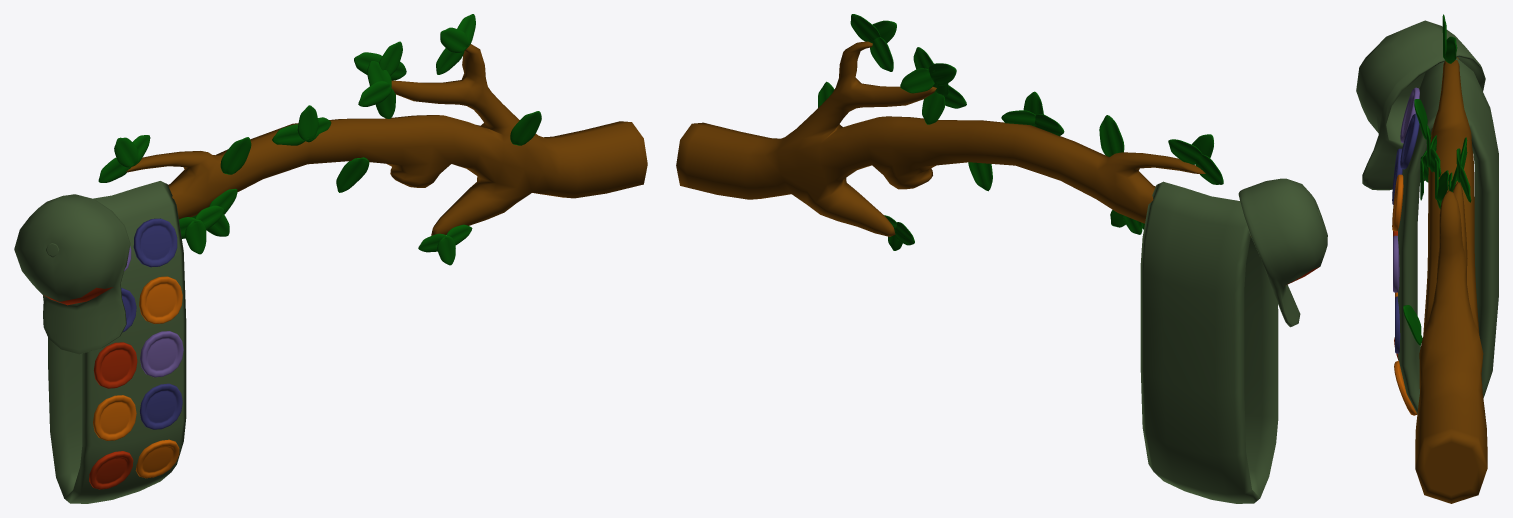
The model's file is sash_branch.fbx.
3 views of the same model, side by side, from view 1: azimuth 30°, elevation 25°; view 2: azimuth 150°, elevation 25°; view 3: azimuth 270°, elevation 25° (orthographic). The views are drawn at different scales.
Visible parts, largest first — view 1: branch, sash, hat, pCube17, pCube25, pCube19, pCube20, pCube22, pCube21, pCube7, pCube6, pCube9 (+10 smaller); view 2: sash, branch, hat, pCube8, pCube6, pCube9, pCube10, pCube7, pCube5; view 3: branch, sash, hat, pCube17, pCube8, pCube25, pCube6, pCube9, pCube18, pCube16, pCube10, pCube23 (+5 smaller).
Part boxes in pixels (x1,y1,x2,y2): branch: (126, 44, 647, 235); sash: (48, 181, 186, 503); hat: (14, 194, 130, 354); pCube17: (133, 218, 177, 267); pCube25: (139, 276, 182, 323); pCube19: (140, 331, 183, 377); pCube20: (93, 342, 137, 388); pCube22: (93, 395, 136, 440); pCube21: (140, 383, 182, 429); pCube7: (358, 61, 395, 118); pCube6: (436, 14, 475, 74); pCube9: (98, 135, 150, 182); sash: (1140, 181, 1278, 503); branch: (676, 41, 1250, 236); hat: (1238, 178, 1327, 327); pCube8: (900, 47, 956, 93); pCube6: (850, 14, 896, 71); pCube9: (1168, 134, 1223, 184); pCube10: (1001, 91, 1064, 136); pCube7: (922, 70, 966, 124); pCube5: (1099, 115, 1124, 156); branch: (1415, 57, 1487, 503); sash: (1398, 58, 1498, 413); hat: (1356, 20, 1485, 190); pCube17: (1400, 113, 1419, 169); pCube8: (1456, 137, 1471, 202); pCube25: (1392, 174, 1403, 231); pCube6: (1434, 158, 1449, 209); pCube9: (1442, 14, 1457, 63); pCube18: (1400, 87, 1419, 143); pCube16: (1403, 305, 1422, 345); pCube10: (1426, 125, 1441, 177); pCube23: (1394, 361, 1417, 415).
Size of the model in its own units: 4.53 by 2.78 by 0.7855.
